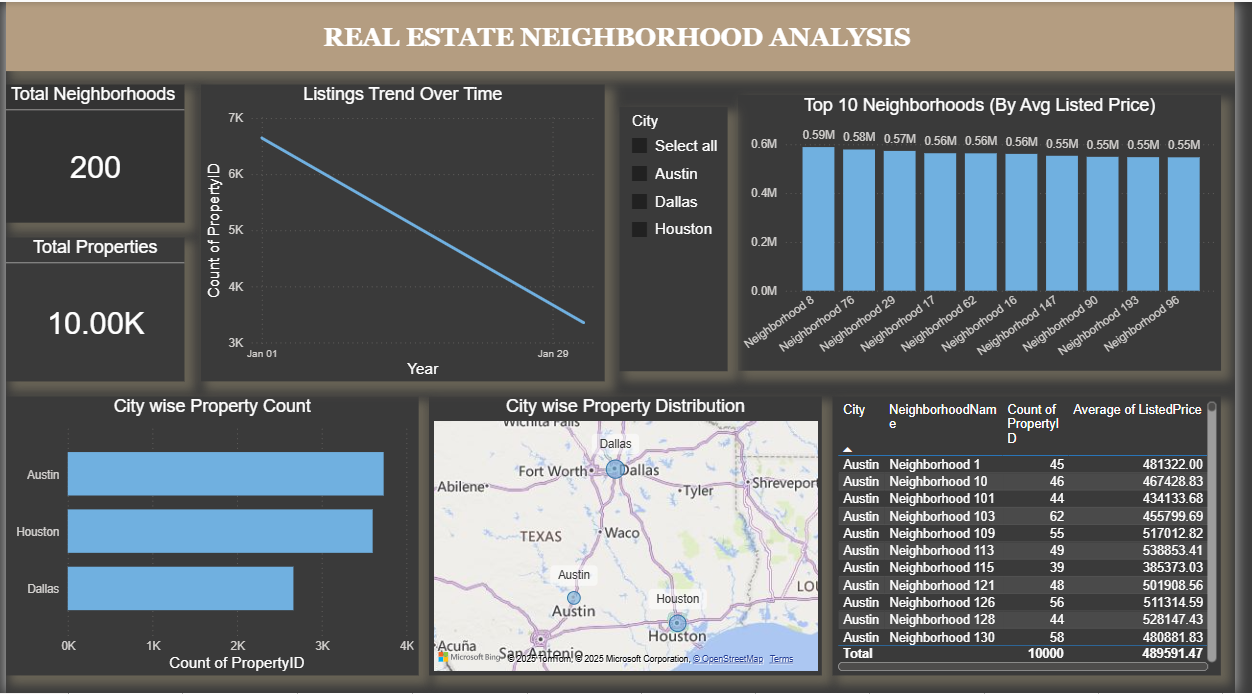

The page's visual inventory and layout, read from the dashboard file:
{"tool":"powerbi","page":{"name":"Page 8","canvas":[1280,720],"ordinal":2},"visuals":[{"type":"textbox","box":[0,0,1280,71.7],"z":0},{"type":"card","title":"Total Neighborhoods","fields":{"Values":["Count(Neighborhoods.NeighborhoodID)"]},"box":[0,86,186,143.8],"z":1000},{"type":"card","title":"Total Properties","fields":{"Values":["CountNonNull(Properties.PropertyID)"]},"box":[0,245.4,186,150],"z":2000},{"type":"clusteredBarChart","title":"City wise Property Count","fields":{"Category":["Neighborhoods.City"],"Y":["CountNonNull(Properties.PropertyID)"]},"box":[0,411.1,429.8,290.7],"z":3000},{"type":"clusteredColumnChart","title":"Top 10 Neighborhoods (By Avg Listed Price)","fields":{"Category":["Neighborhoods.NeighborhoodName"],"Y":["Avg(Properties.ListedPrice)"]},"box":[762.7,96.9,503.3,287.6],"z":4000},{"type":"map","title":"City wise Property Distribution","fields":{"Size":["CountNonNull(Properties.PropertyID)"],"Category":["Offices.City"]},"box":[440.8,411.1,409.5,290.7],"z":5000},{"type":"lineChart","title":"Listings Trend Over Time","fields":{"Y":["Count(Properties.PropertyID)"],"Category":["Properties.ListingDate.Variation.Date Hierarchy.Year","Properties.ListingDate.Variation.Date Hierarchy.Month"]},"box":[203.2,86,420.4,309.5],"z":6000},{"type":"tableEx","fields":{"Values":["Neighborhoods.City","Neighborhoods.NeighborhoodName","CountNonNull(Properties.PropertyID)","Avg(Properties.ListedPrice)"]},"box":[861.2,411.1,404.8,290.7],"z":7000},{"type":"slicer","fields":{"Values":["Neighborhoods.City"]},"box":[639.3,109.4,112.5,275.1],"z":8000}]}

Visuals, with their boxes in screenshot pixels (x1, y1, x2, y2), scaled from the page's 1280x720 canvas onto the 1252x694 screenshot:
textbox: detection(0, 0, 1251, 69)
"Total Neighborhoods" card: detection(0, 83, 182, 222)
"Total Properties" card: detection(0, 237, 182, 381)
"City wise Property Count" clusteredBarChart: detection(0, 396, 420, 676)
"Top 10 Neighborhoods (By Avg Listed Price)" clusteredColumnChart: detection(746, 93, 1238, 371)
"City wise Property Distribution" map: detection(431, 396, 832, 676)
"Listings Trend Over Time" lineChart: detection(199, 83, 610, 381)
tableEx - Neighborhoods.City x Neighborhoods.NeighborhoodName: detection(842, 396, 1238, 676)
slicer - Neighborhoods.City: detection(625, 105, 735, 371)
